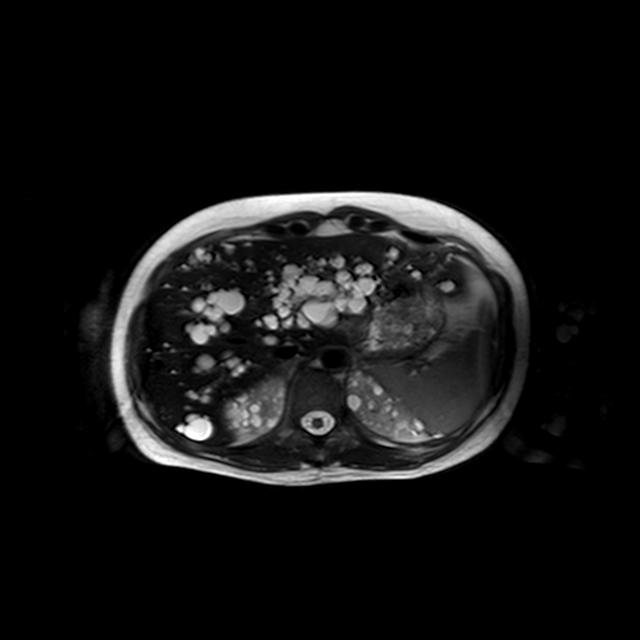sag: (224, 375, 285, 441)
sol: (344, 368, 439, 441)
